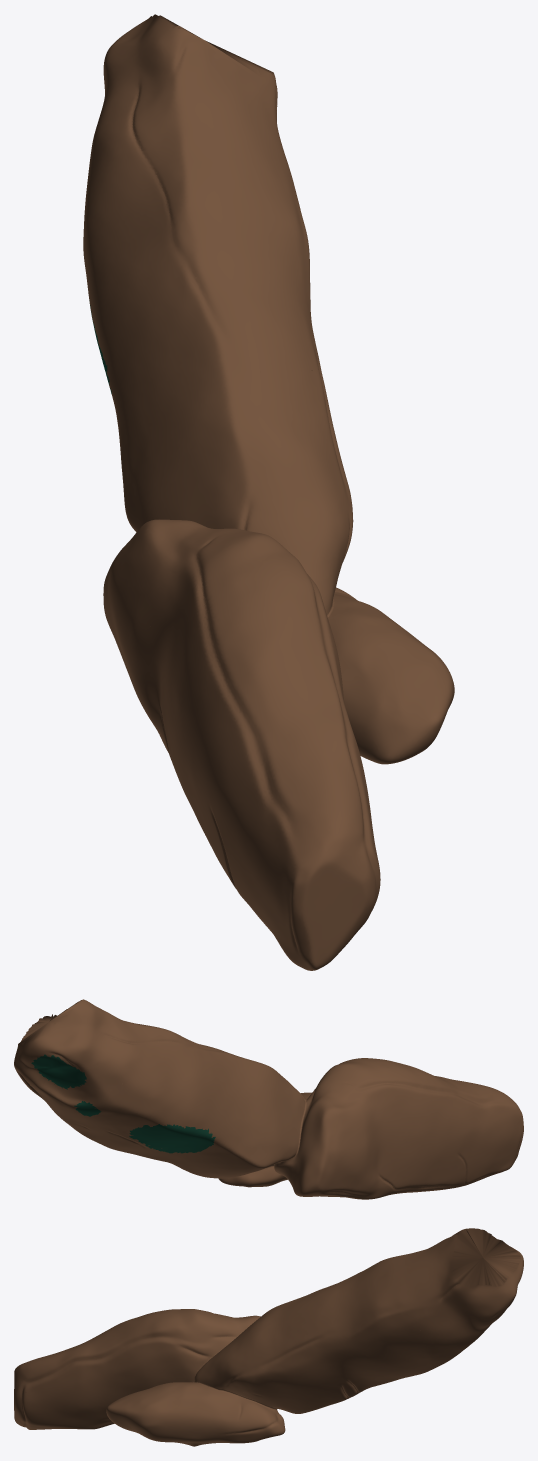
The model's file is piernaDerRocky.obj.
3 renders of one model, top to bottom at view 1: azimuth 30°, elevation 25°; view 2: azimuth 150°, elevation 25°; view 3: azimuth 270°, elevation 25°, orthographic. The views are drawn at different scales.
Visible parts, largest first — view 1: piernaDer_colorCafe; view 2: piernaDer_colorCafe, piernaDer_colorVerde; view 3: piernaDer_colorCafe.
Part boxes in pixels (bbox=[...]): piernaDer_colorCafe: bbox=[83, 14, 454, 970]; piernaDer_colorCafe: bbox=[14, 999, 523, 1199]; piernaDer_colorVerde: bbox=[31, 1054, 215, 1153]; piernaDer_colorCafe: bbox=[14, 1228, 523, 1446].
Size of the model in its own units: 0.2785 by 0.3419 by 0.5778.
